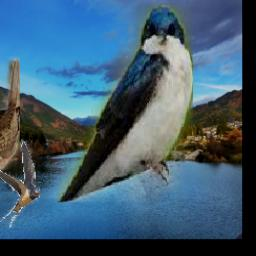Cuckoo: (0, 57, 20, 170)
Swallow: (59, 5, 194, 202), (0, 140, 41, 228)
